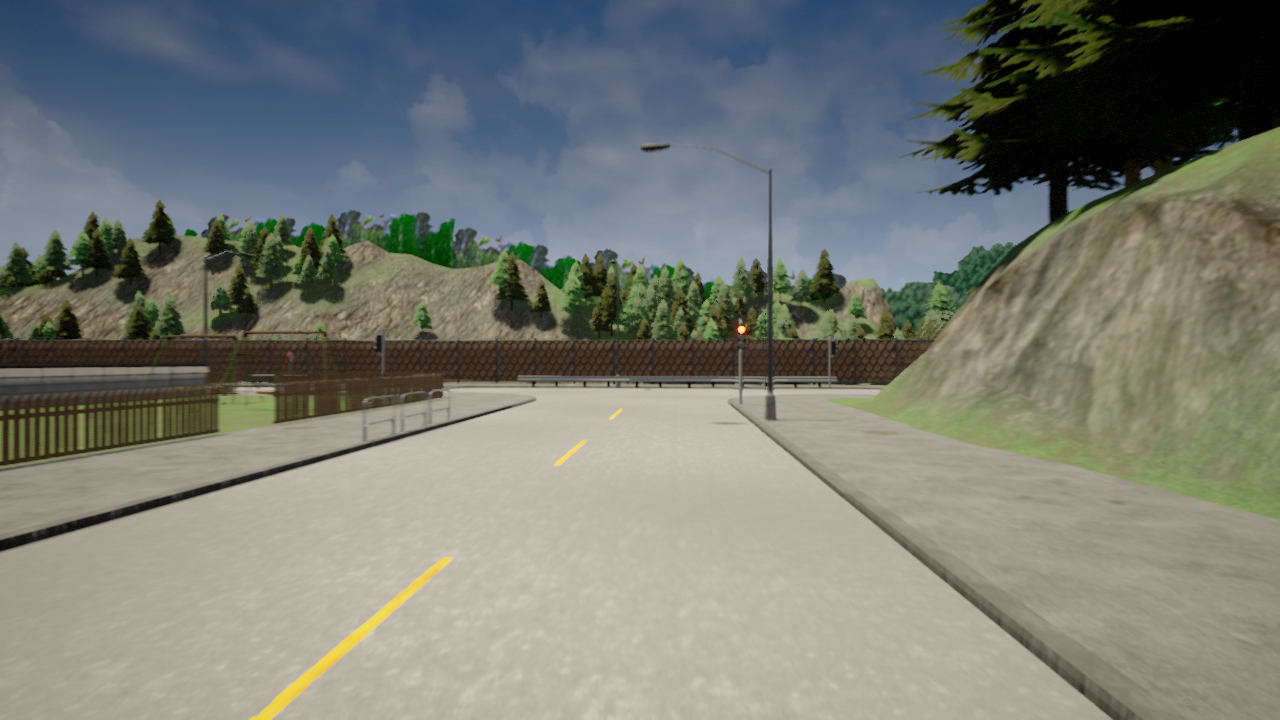red: (735, 324, 747, 351)
